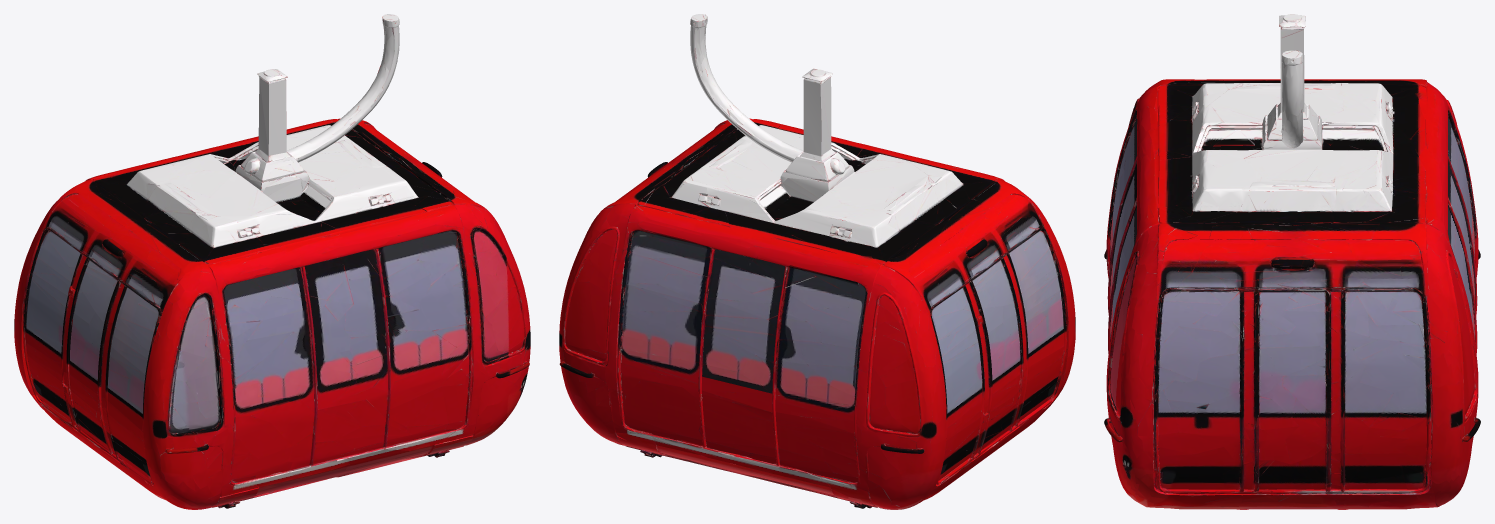
The model's file is gondola_cabin.glb.
The picture shows the model from 3 angles, left to right: view 1: azimuth 30°, elevation 25°; view 2: azimuth 150°, elevation 25°; view 3: azimuth 270°, elevation 25°; orthographic projection. The views are drawn at different scales.
Size of the model in its own units: 1.9 by 1.86 by 1.42.
Materials: 1 (1 with a texture image).
